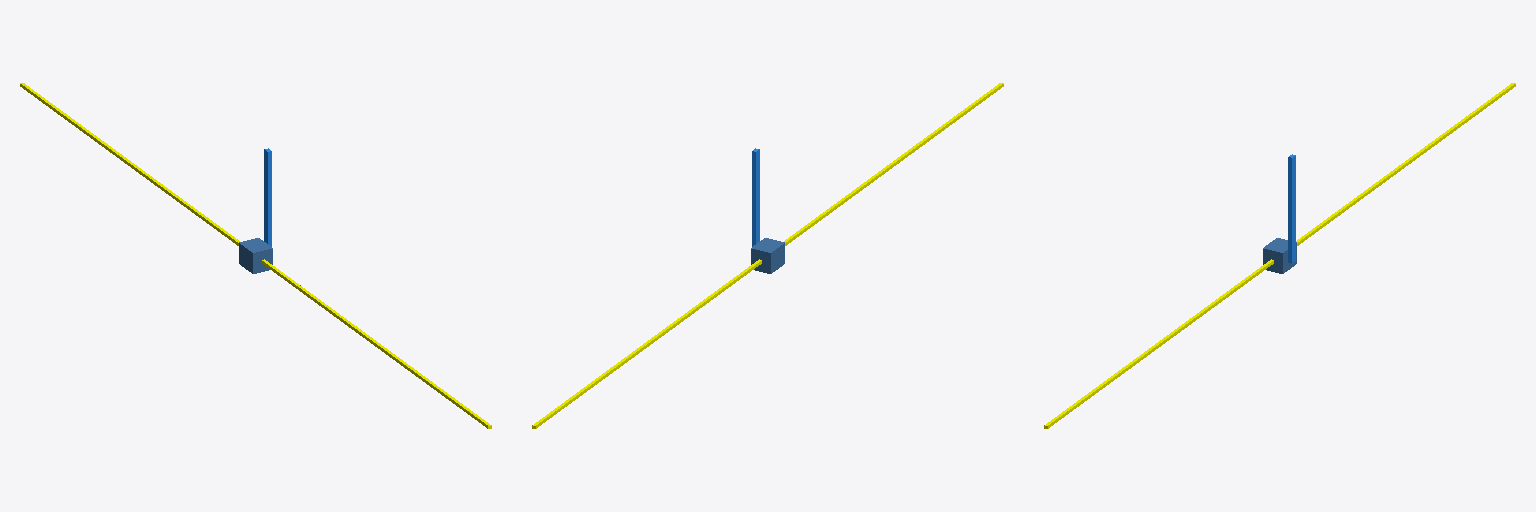
robot.urdf — cartpole:
<?xml version="1.0"?>
<robot name="cartpole">

    <link name="slider">
        <visual>
            <geometry>
                <box size="0.03 8 0.03"/>
            </geometry>
            <material name="slider_mat">
                <color rgba="1 1 0 1"/>
            </material>
        </visual>
        <collision>
            <geometry>
                <box size="0.03 8 0.03"/>
            </geometry>
        </collision>
    </link>

    <link name="cart">
        <visual>
            <geometry>
                <box size="0.2 0.25 0.2"/>
            </geometry>
            <material name="cart_mat">
                <color rgba="0.3 0.5 0.7 1"/>
            </material>
        </visual>
        <collision>
            <geometry>
                <box size="0.2 0.25 0.2"/>
            </geometry>
        </collision>
        <inertial>
            <origin xyz="0 0 0"/>
            <mass value="1"/>
            <inertia ixx="0.002" ixy="0.0" ixz="0.0" iyy="0.002" iyz="0.0" izz="0.002"/>
        </inertial>
    </link>

    <link name="pole">
        <visual>
            <geometry>
                <box size="0.04 0.06 1.0"/>	
            </geometry>
            <origin xyz="0 0 0.47"/>
            <material name="pole_mat">
                <color rgba="0.2 0.6 1 1"/>
            </material>
        </visual>
        <collision>
            <geometry>
                <box size="0.04 0.06 1.0"/>	
            </geometry>
            <origin xyz="0 0 0.47"/>
        </collision>
        <inertial>
            <origin xyz="0 0 0.47"/>
            <mass value="1"/>
            <inertia ixx="0.01" ixy="0.0" ixz="0.0" iyy="0.01" iyz="0.0" izz="0.0005"/>
        </inertial>
    </link>

    <joint name="slider_to_cart" type="prismatic">
        <axis xyz="0 1 0"/>
        <origin xyz="0 0 0"/>
        <parent link="slider"/>
        <child link="cart"/>
        <limit effort="1000.0" lower="-4" upper="4" velocity="100"/>
    </joint>

    <joint name="cart_to_pole" type="continuous">
        <axis xyz="1 0 0"/>
        <origin xyz="0.12 0 0"/>
        <parent link="cart"/>
        <child link="pole"/>
        <limit effort="1000.0" velocity="8"/>
    </joint>
  
</robot>

--- Facts derived from the render (not from the file) ---
The picture shows the robot from 3 angles, left to right: view 1: azimuth 30°, elevation 25°; view 2: azimuth 150°, elevation 25°; view 3: azimuth 330°, elevation 25°; orthographic projection.
Robot: cartpole — 3 links, 2 joints (1 continuous, 1 prismatic); root link slider; default pose: every joint at zero.
Links seen in each view (by area): view 1: slider, cart, pole; view 2: slider, cart, pole; view 3: slider, pole, cart.
Link boxes in pixels (x1,y1,x2,y2): slider: (20,83,491,428); cart: (239,238,272,273); pole: (264,148,271,246); slider: (532,83,1003,428); cart: (751,238,784,273); pole: (752,148,759,246); slider: (1044,83,1515,428); pole: (1288,154,1295,263); cart: (1263,238,1296,273).
Size in the robot's own frame: 0.24 by 8 by 1.07 metres.
Geometry: primitives only (box / cylinder / sphere), no mesh files.
